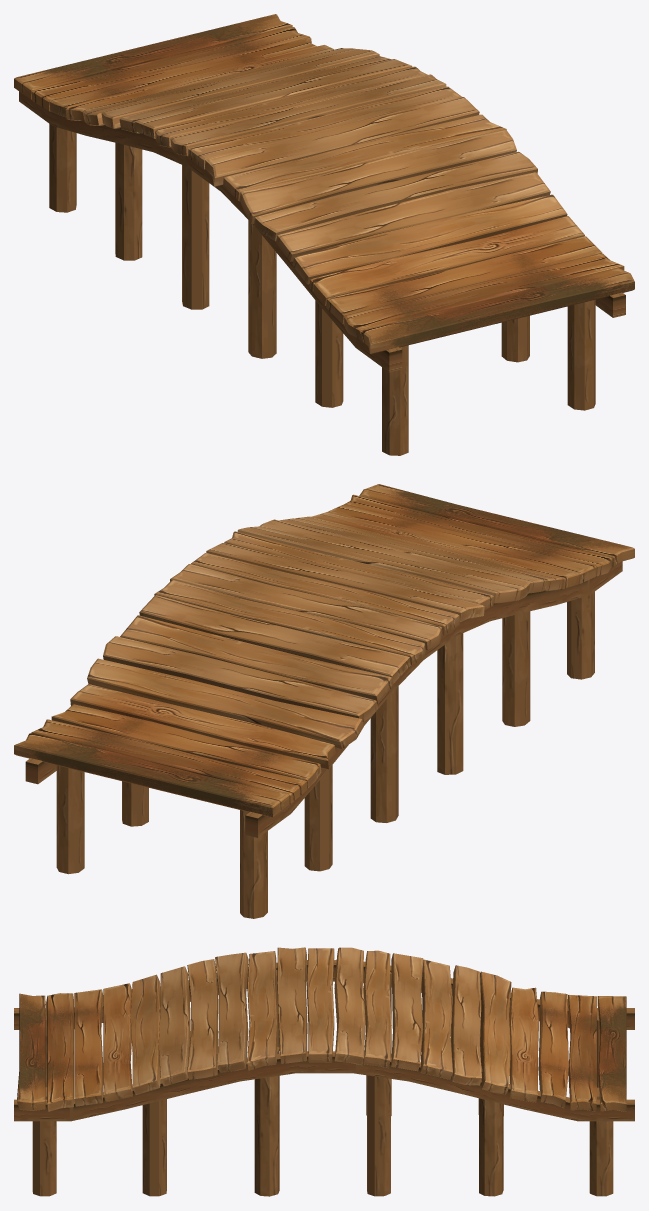
File: Bridge_MESH_01.fbx
3 renders of one model, top to bottom at view 1: azimuth 30°, elevation 25°; view 2: azimuth 150°, elevation 25°; view 3: azimuth 270°, elevation 25°, orthographic. The views are drawn at different scales.
Visible parts, largest first — view 1: Bridge_GRP6; view 2: Bridge_GRP6; view 3: Bridge_GRP6.
Part boxes in pixels (left/top/right/bottom): Bridge_GRP6: left=14, top=14, right=634, bottom=455; Bridge_GRP6: left=14, top=484, right=634, bottom=918; Bridge_GRP6: left=14, top=947, right=634, bottom=1196.
Bounding box in the file's own units: 1032 × 667 × 2422.
